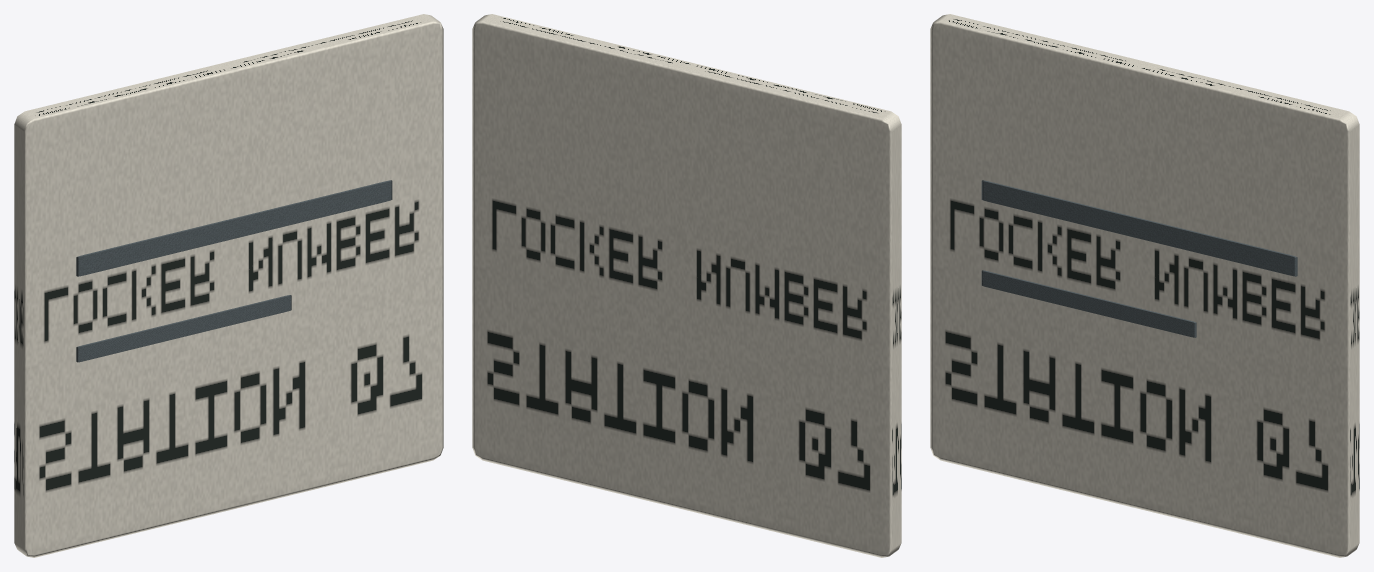
File: locker-number.glb
The picture shows the model from 3 angles, left to right: view 1: azimuth 30°, elevation 25°; view 2: azimuth 150°, elevation 25°; view 3: azimuth 330°, elevation 25°; orthographic projection.
Parts seen in each view (by area): view 1: board, stripe, line; view 2: board; view 3: board, stripe, line.
Boxes of the visible parts, bbox=[...] form: board: bbox=[14, 14, 443, 557]; stripe: bbox=[76, 180, 392, 276]; line: bbox=[76, 295, 291, 362]; board: bbox=[472, 14, 901, 557]; board: bbox=[930, 14, 1359, 557]; stripe: bbox=[981, 180, 1297, 276]; line: bbox=[981, 270, 1196, 337].
Bounding box in the file's own units: 0.09 × 0.09 × 0.00408.
Materials: 2 (2 with a texture image).
